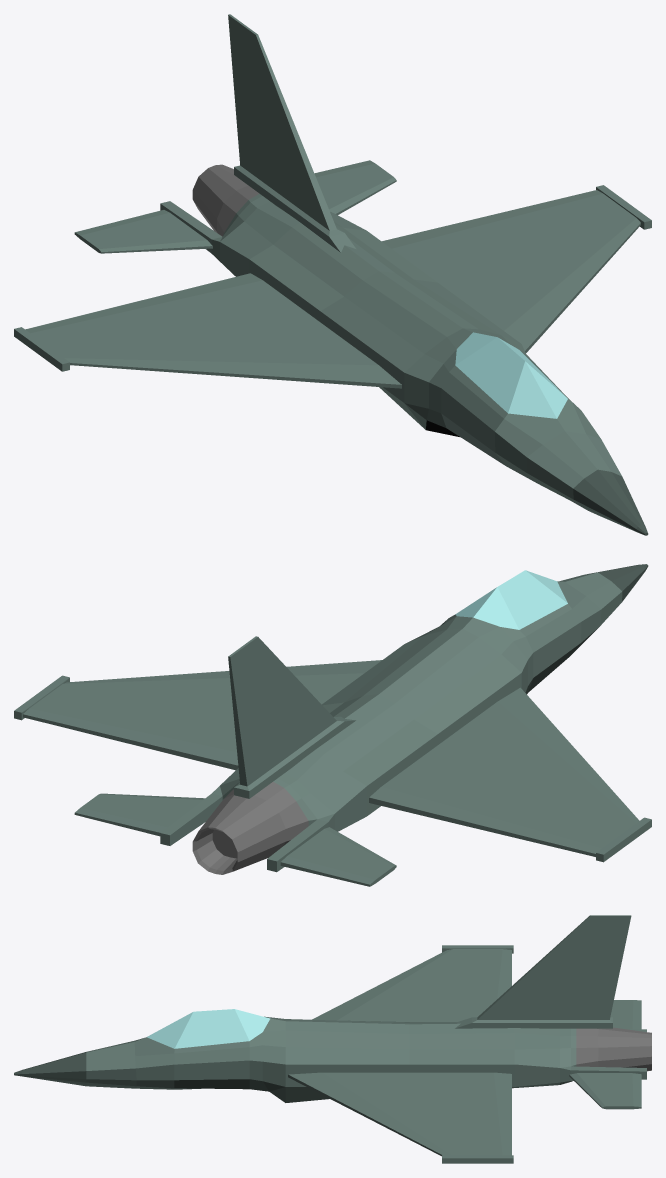
Rendered from modular_Basic_jet 1.fbx.
3 renders of one model, top to bottom at view 1: azimuth 30°, elevation 25°; view 2: azimuth 150°, elevation 25°; view 3: azimuth 270°, elevation 25°, orthographic. The views are drawn at different scales.
Parts seen in each view (by area): view 1: Body_Mesh, Wings_Mesh, Rudder_Mesh, Elevator_R, Thruster_Mesh, Elevator_L; view 2: Wings_Mesh, Body_Mesh, Rudder_Mesh, Thruster_Mesh, Elevator_R, Elevator_L; view 3: Body_Mesh, Wings_Mesh, Rudder_Mesh, Thruster_Mesh, Elevator_L, Elevator_R.
Part boxes in pixels (left/top/right/bottom): Body_Mesh: left=160, top=193, right=648, bottom=535; Wings_Mesh: left=14, top=185, right=651, bottom=388; Rudder_Mesh: left=228, top=14, right=355, bottom=252; Elevator_R: left=74, top=210, right=212, bottom=253; Thruster_Mesh: left=192, top=164, right=259, bottom=236; Elevator_L: left=314, top=160, right=396, bottom=214; Wings_Mesh: left=14, top=660, right=651, bottom=862; Body_Mesh: left=160, top=564, right=648, bottom=872; Rudder_Mesh: left=228, top=636, right=355, bottom=798; Thruster_Mesh: left=192, top=782, right=308, bottom=874; Elevator_R: left=280, top=827, right=396, bottom=886; Elevator_L: left=74, top=793, right=204, bottom=836; Body_Mesh: left=14, top=1009, right=646, bottom=1102; Wings_Mesh: left=288, top=945, right=513, bottom=1163; Rudder_Mesh: left=455, top=915, right=631, bottom=1028; Thruster_Mesh: left=576, top=1027, right=651, bottom=1071; Elevator_L: left=569, top=1073, right=641, bottom=1109; Elevator_R: left=610, top=1000, right=641, bottom=1029.
Size of the model in its own units: 220 by 89.91 by 279.
